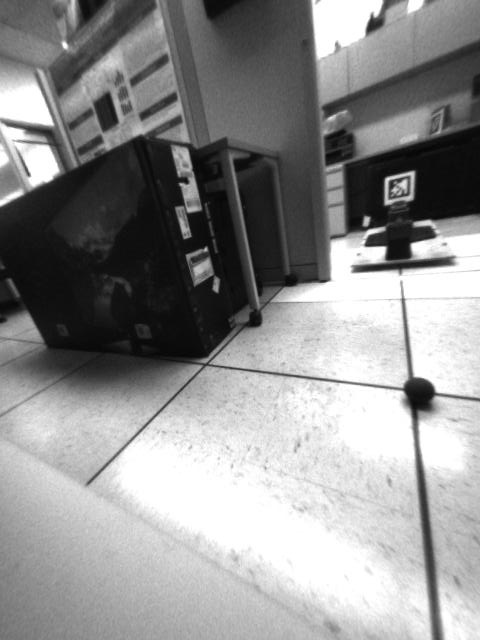dogtoy: (395, 367, 442, 413)
